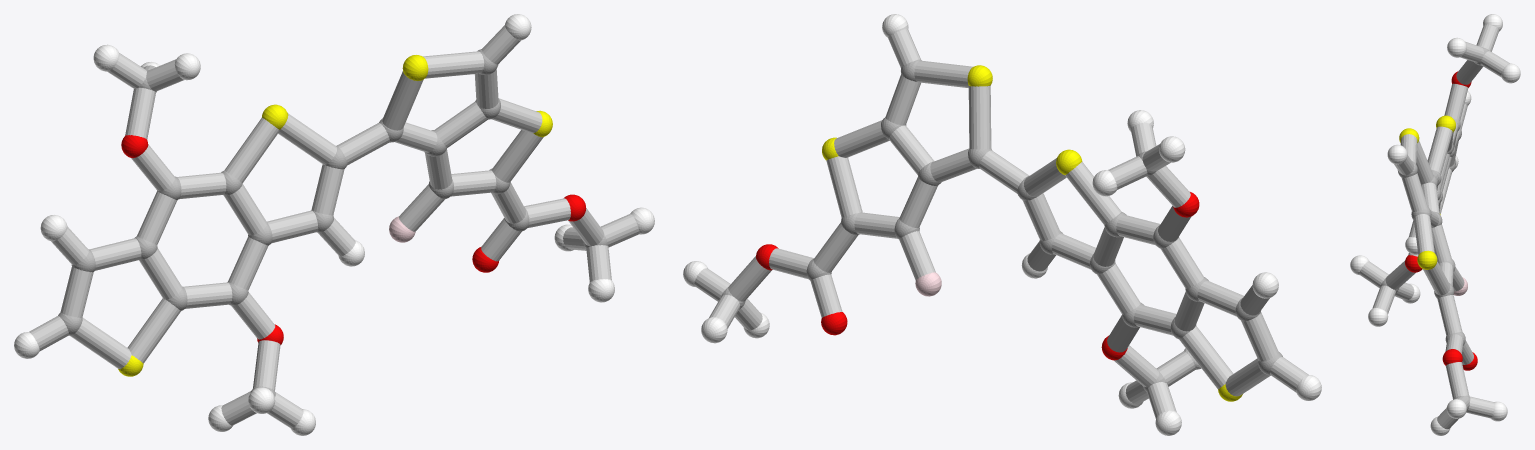
The model's file is color.glb.
The picture shows the model from 3 angles, left to right: view 1: azimuth 30°, elevation 25°; view 2: azimuth 150°, elevation 25°; view 3: azimuth 270°, elevation 25°; orthographic projection. The views are drawn at different scales.
Visible parts, largest first — view 1: grp15205, grp8689, grp1, grp7241, grp13395; view 2: grp15205, grp8689, grp1, grp13395, grp7241; view 3: grp15205, grp8689, grp1, grp13395, grp7241.
Boxes of the visible parts, x1,y1,x2,y2 form: grp15205: (29, 25, 639, 428); grp8689: (14, 14, 654, 435); grp1: (58, 49, 608, 397); grp7241: (118, 55, 552, 376); grp13395: (121, 135, 586, 344); grp15205: (694, 29, 1308, 418); grp8689: (683, 14, 1321, 435); grp1: (721, 59, 1282, 391); grp13395: (756, 192, 1199, 360); grp7241: (822, 65, 1242, 401); grp15205: (1359, 24, 1509, 428); grp8689: (1350, 14, 1520, 435); grp1: (1381, 47, 1489, 411); grp13395: (1405, 71, 1477, 370); grp7241: (1399, 115, 1455, 269).
Bounding box in the file's own units: 16.48 × 8.85 × 5.1.
